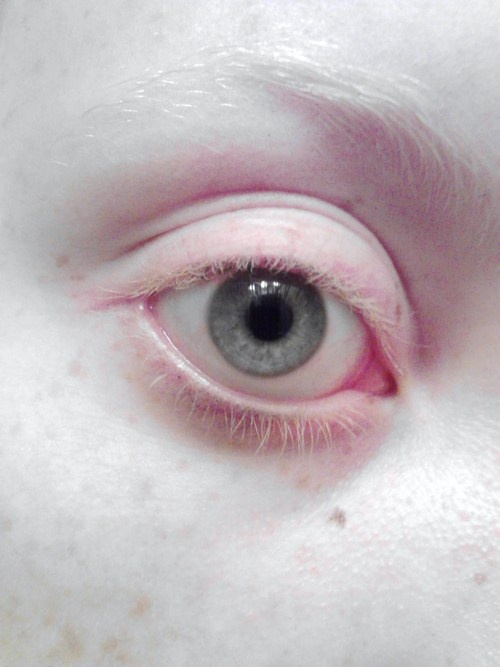iris: (206, 261, 327, 375)
pupil: (242, 295, 295, 342)
